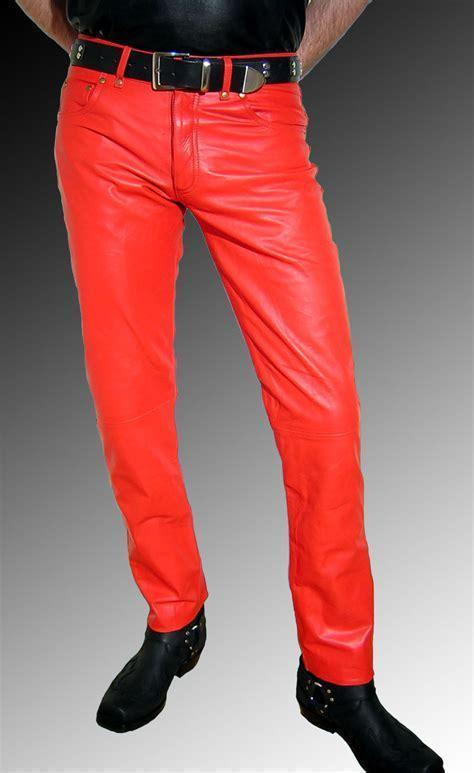pants: (56, 33, 374, 686)
